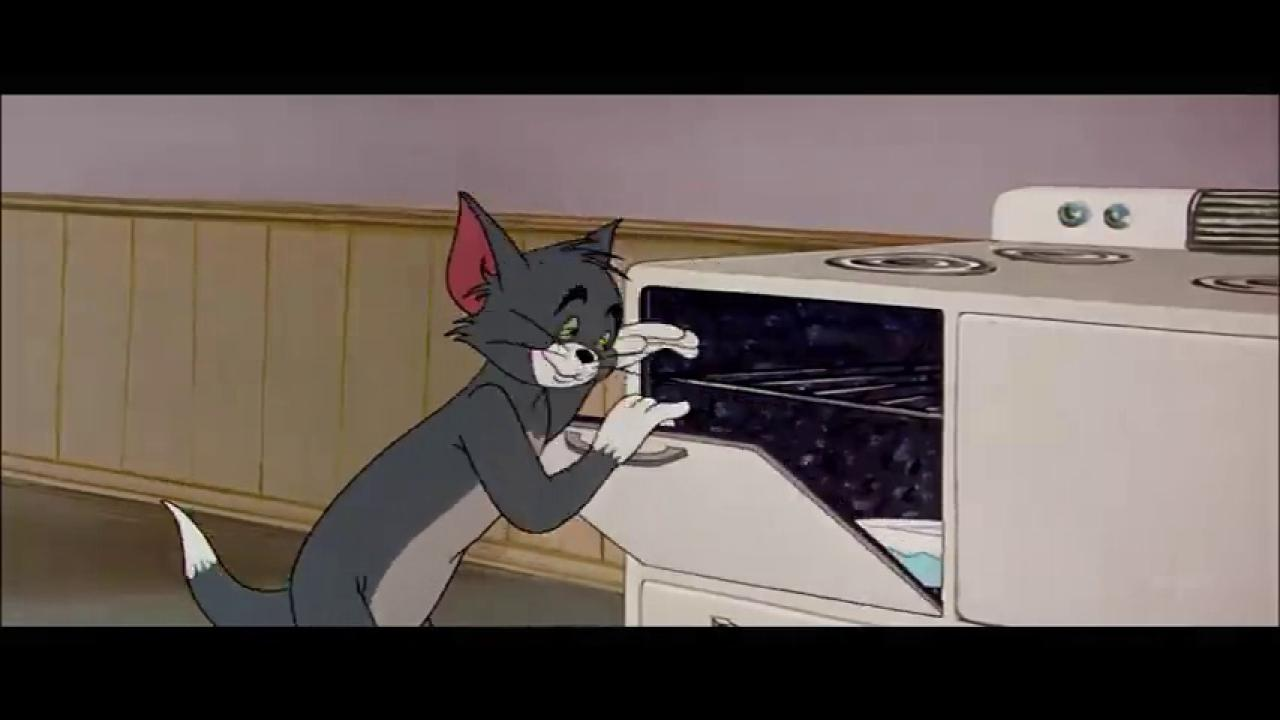Tom: (161, 189, 702, 624)
